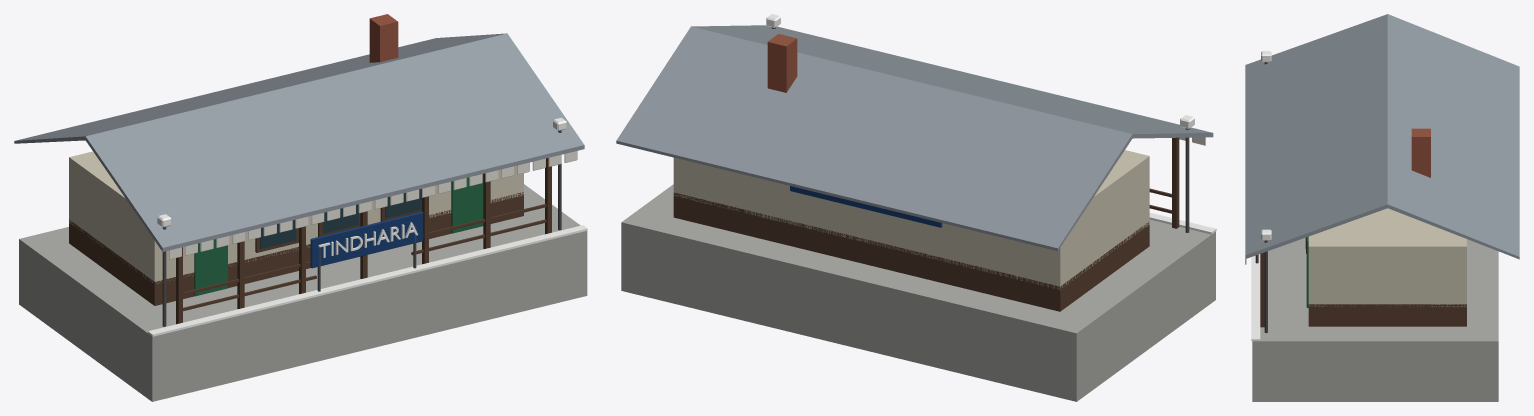
File: station_tindharia.glb
3 renders of one model, left to right at view 1: azimuth 30°, elevation 25°; view 2: azimuth 150°, elevation 25°; view 3: azimuth 270°, elevation 25°, orthographic. The views are drawn at different scales.
Parts seen in each view (by area): view 1: station; view 2: station; view 3: station.
Part boxes in pixels (x1,y1,x2,y2): station: [14, 14, 587, 401]; station: [616, 14, 1216, 401]; station: [1245, 14, 1519, 401].
Bounding box in the file's own units: 13.2 × 6.85 × 7.8.
